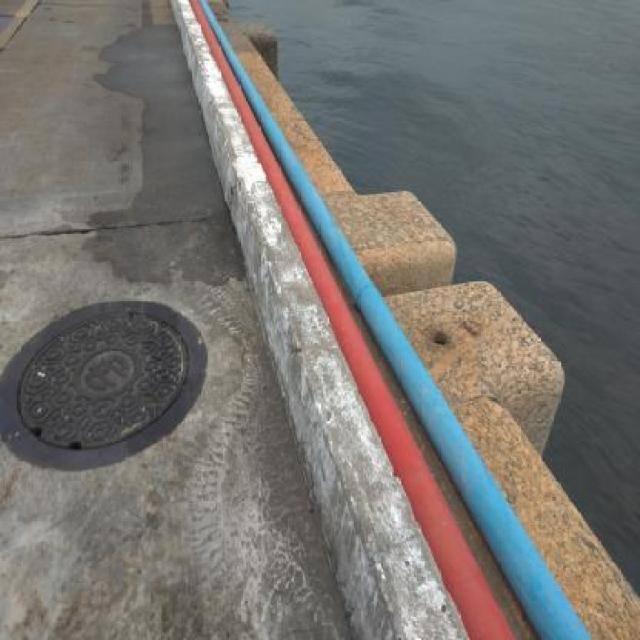gas: (200, 0, 588, 640), (192, 0, 517, 640)
